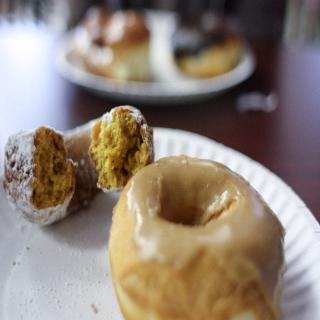Doughnut: (109, 152, 286, 320), (4, 102, 154, 226)
